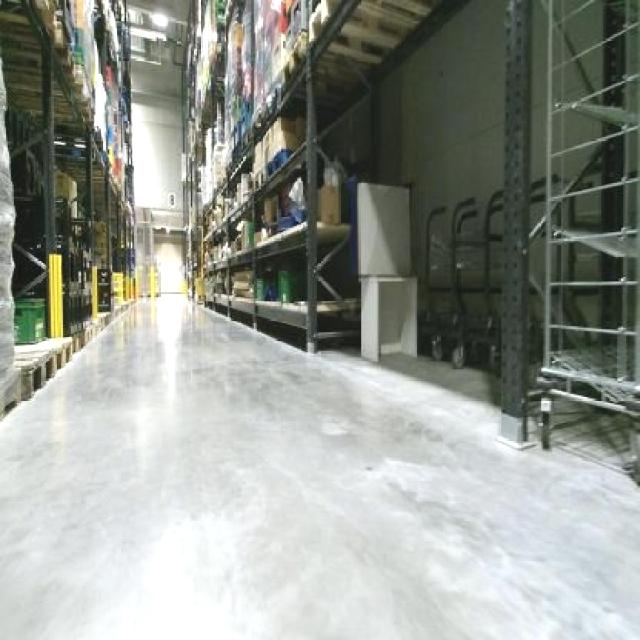floor: (0, 297, 637, 637)
